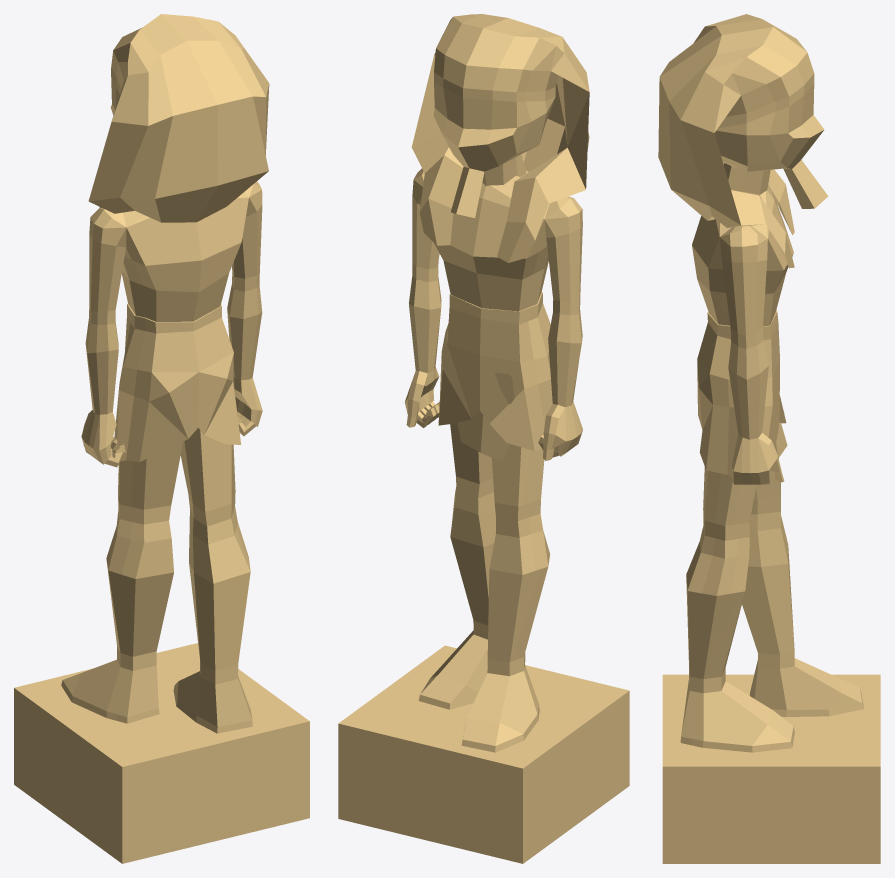
File: Statue.fbx
3 renders of one model, left to right at view 1: azimuth 30°, elevation 25°; view 2: azimuth 150°, elevation 25°; view 3: azimuth 270°, elevation 25°, orthographic. The views are drawn at different scales.
Parts seen in each view (by area): view 1: Cube; view 2: Cube; view 3: Cube.
Part boxes in pixels (x1,y1,x2,y2): Cube: (14, 14, 309, 863); Cube: (338, 14, 629, 863); Cube: (658, 14, 880, 863).
Size of the model in its own units: 200 by 801 by 204.
